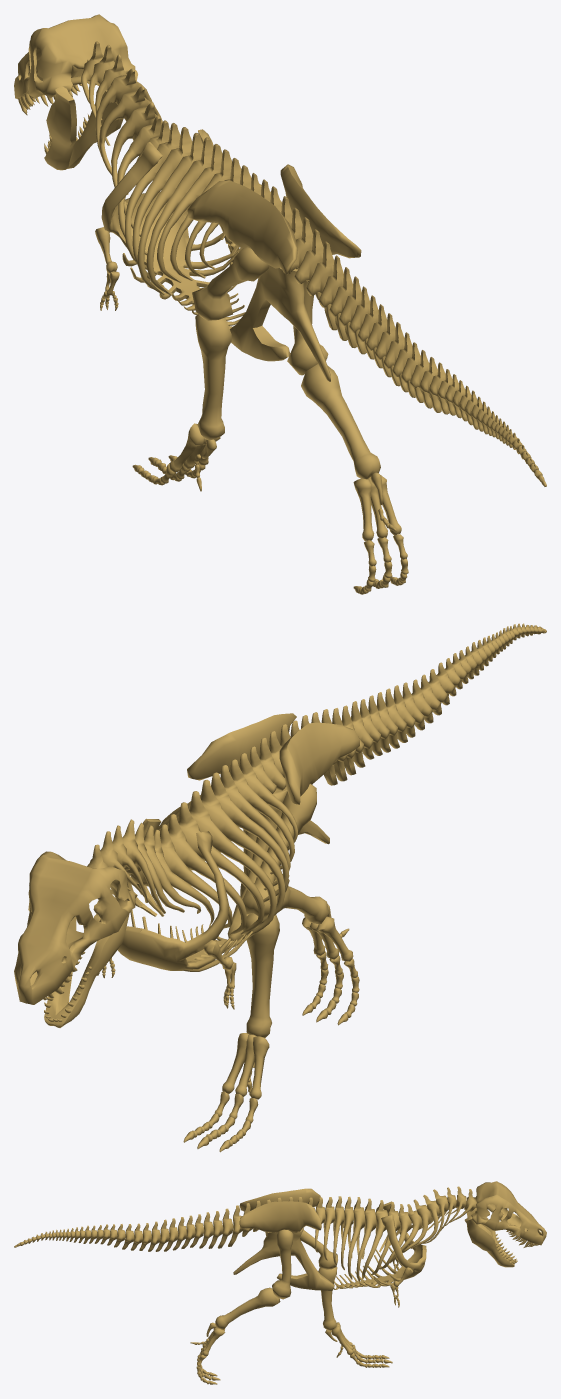
File: skeletonTRex.gltf
The picture shows the model from 3 angles, top to bottom: view 1: azimuth 30°, elevation 25°; view 2: azimuth 150°, elevation 25°; view 3: azimuth 270°, elevation 25°; orthographic projection. The views are drawn at different scales.
Visible parts, largest first — view 1: skeletonTRex; view 2: skeletonTRex; view 3: skeletonTRex.
Boxes of the visible parts, x1,y1,x2,y2 form: skeletonTRex: [14, 14, 546, 594]; skeletonTRex: [14, 623, 546, 1152]; skeletonTRex: [14, 1181, 546, 1384].
Size of the model in its own units: 0.4535 by 1.15 by 2.94.
